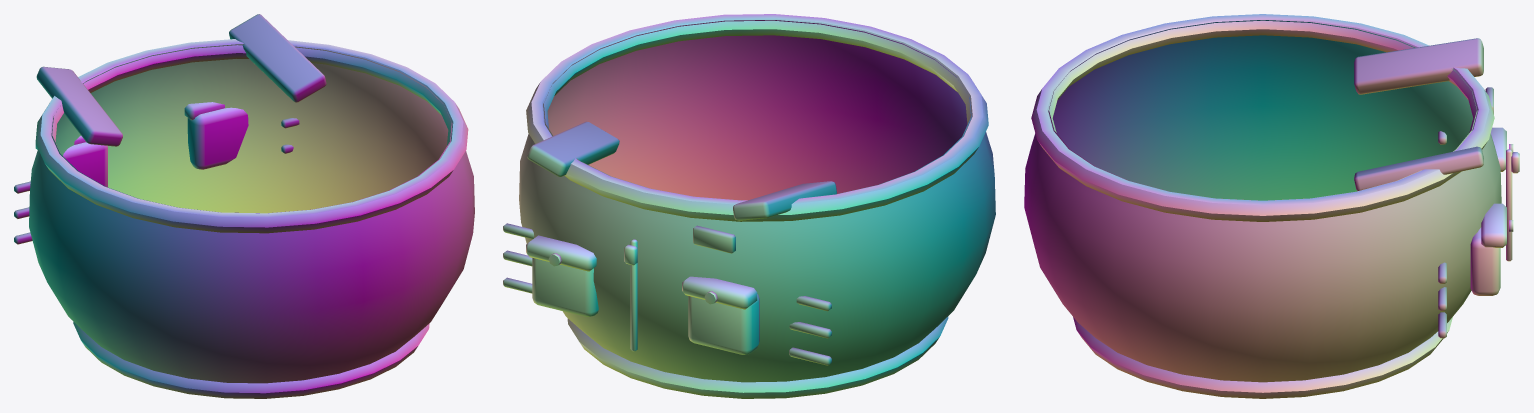
The model's file is acc_vest.glb.
3 views of the same model, side by side, from view 1: azimuth 30°, elevation 25°; view 2: azimuth 150°, elevation 25°; view 3: azimuth 270°, elevation 25° (orthographic). The views are drawn at different scales.
Visible parts, largest first — view 1: vest; view 2: vest; view 3: vest.
Boxes of the visible parts, x1,y1,x2,y2 form: vest: (14,14,474,398); vest: (503,14,995,398); vest: (1024,14,1519,398).
Size of the model in its own units: 0.2232 by 0.1162 by 0.2316.
